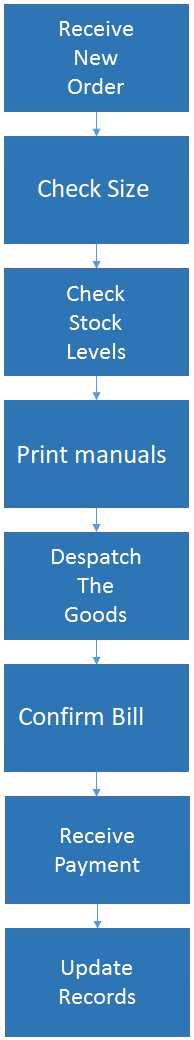arrow: (86, 765, 108, 800), (87, 369, 108, 404), (87, 634, 107, 667), (87, 502, 105, 537), (86, 238, 105, 269), (87, 110, 107, 138), (87, 902, 105, 929)
process: (1, 524, 194, 645), (1, 661, 194, 779), (1, 394, 191, 513), (1, 132, 194, 248), (1, 923, 194, 1039), (1, 791, 191, 908), (2, 265, 194, 379), (2, 2, 194, 115)
text: (46, 543, 146, 629), (53, 15, 137, 99), (62, 281, 130, 364), (51, 824, 143, 878), (51, 954, 141, 1008), (11, 442, 170, 469), (13, 705, 146, 734), (35, 173, 154, 204)
